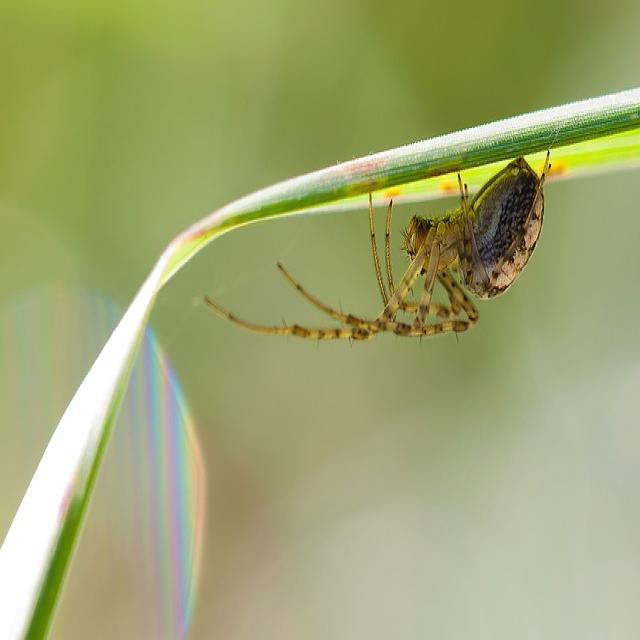spyder: (218, 158, 546, 342)
